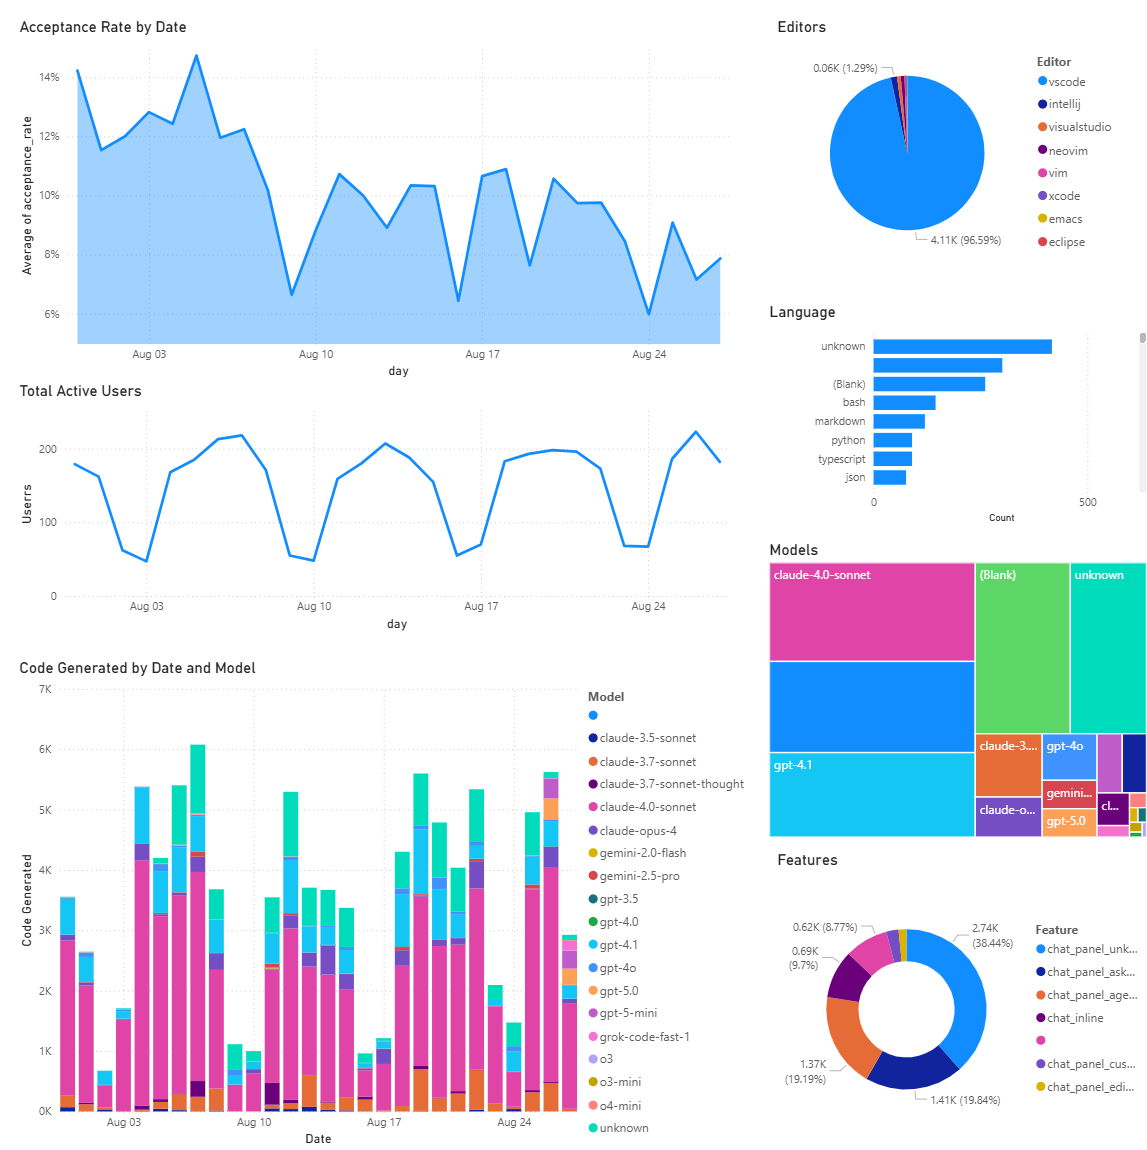

This screenshot's page, from the dashboard's own definition file:
{"tool":"powerbi","page":{"name":"Activity","canvas":[1280,1280],"ordinal":2},"visuals":[{"type":"lineChart","title":"Total Active Users","fields":{"Y":["Count(summary.user_id)"],"Category":["summary.day"]},"box":[24.5,431.6,803.1,279.5],"z":0},{"type":"pieChart","title":"Editors","fields":{"Category":["ide.totals_by_ide.ide"],"Y":["CountNonNull(ide.totals_by_ide.ide)"]},"box":[861.9,28.2,388.7,279.5],"z":1000},{"type":"barChart","title":"Language","fields":{"Category":["language_model.totals_by_language_model.language"],"Y":["Count(language_model.user_id)"]},"box":[853.3,343.3,426.7,247.7],"z":2000},{"type":"areaChart","title":"Acceptance Rate by Date","fields":{"Category":["language_model.day"],"Y":["Avg(language_model.acceptance_rate)"]},"box":[24.5,152,803.1,279.5],"z":3000},{"type":"treemap","title":"Models","fields":{"Group":["model_feature.totals_by_model_feature.model"],"Values":["Count(model_feature.user_id)"]},"box":[853.3,606.9,426.7,332.3],"z":4000},{"type":"lineStackedColumnComboChart","fields":{"Category":["model_feature.day"],"Series":["model_feature.totals_by_model_feature.model"],"Y":["Sum(model_feature.totals_by_model_feature.code_generation_activity_count)"]},"box":[24.5,736.9,820.2,543.1],"z":5000},{"type":"donutChart","title":"Features","fields":{"Category":["model_feature.totals_by_model_feature.feature"],"Y":["CountNonNull(model_feature.totals_by_model_feature.feature)"]},"box":[861.9,949,418.1,331],"z":6000}]}

Visuals, with their boxes in screenshot pixels (x1, y1, x2, y2), scaled from the page's 1280x1280 canvas onto the 1147x1150 screenshot:
"Total Active Users" lineChart: {"left": 22, "top": 388, "right": 742, "bottom": 639}
"Editors" pieChart: {"left": 772, "top": 25, "right": 1121, "bottom": 276}
"Language" barChart: {"left": 765, "top": 308, "right": 1146, "bottom": 531}
"Acceptance Rate by Date" areaChart: {"left": 22, "top": 137, "right": 742, "bottom": 388}
"Models" treemap: {"left": 765, "top": 545, "right": 1146, "bottom": 844}
lineStackedColumnComboChart - model_feature.day x model_feature.totals_by_model_feature.model: {"left": 22, "top": 662, "right": 757, "bottom": 1149}
"Features" donutChart: {"left": 772, "top": 853, "right": 1146, "bottom": 1149}
